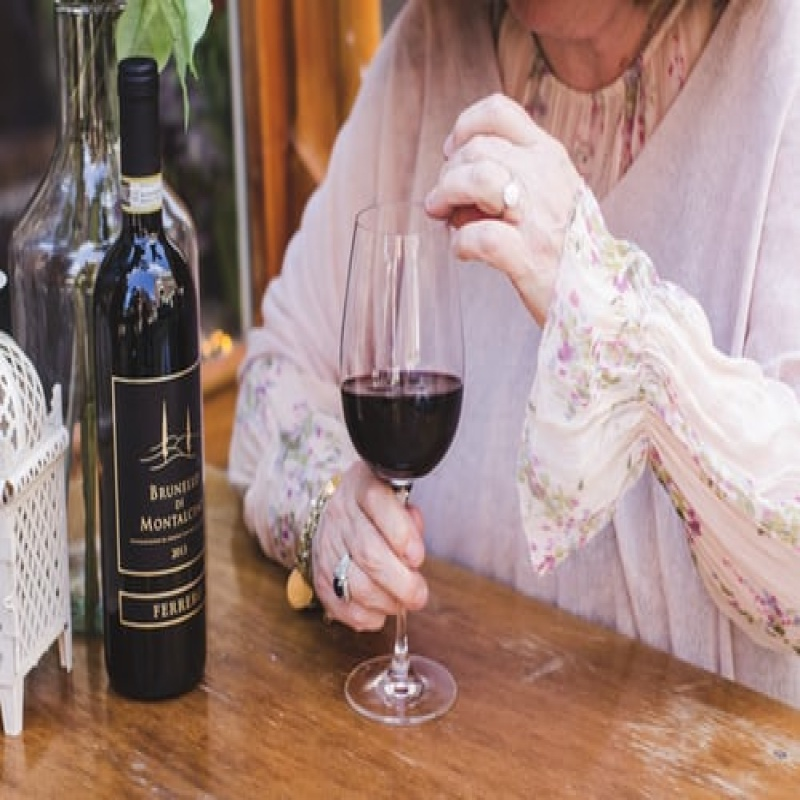wine: (87, 65, 209, 703)
